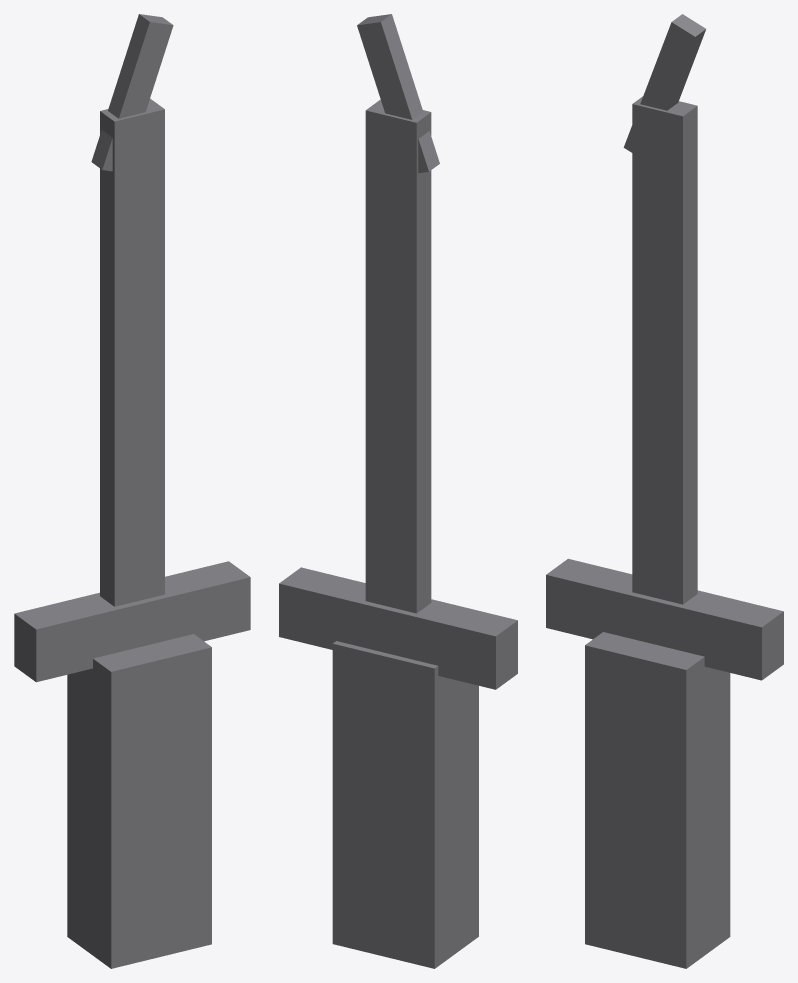
Rendered from melee_knife.gltf.
3 views of the same model, side by side, from view 1: azimuth 30°, elevation 25°; view 2: azimuth 150°, elevation 25°; view 3: azimuth 330°, elevation 25° (orthographic).
Visible parts, largest first — view 1: melee_knife; view 2: melee_knife; view 3: melee_knife.
Part boxes in pixels (<box>): melee_knife: <box>14,14,250,968</box>; melee_knife: <box>279,14,517,968</box>; melee_knife: <box>546,14,783,968</box>.
Bounding box in the file's own units: 0.34 × 1.39 × 0.12.
